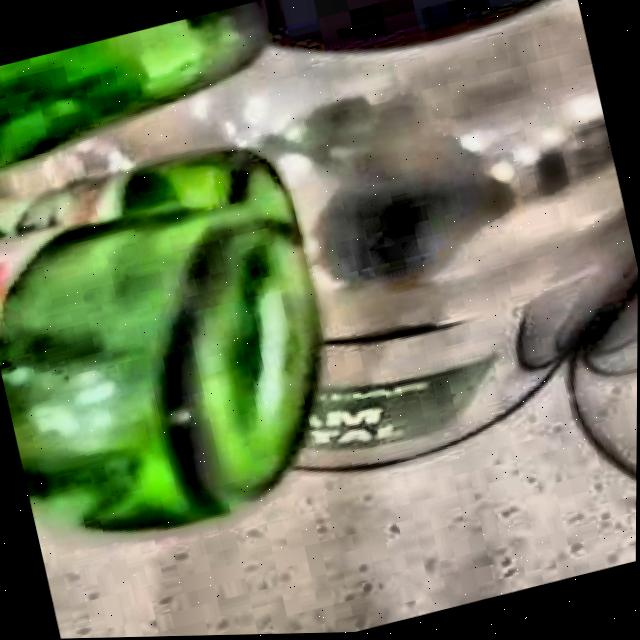glass: (0, 150, 318, 534)
